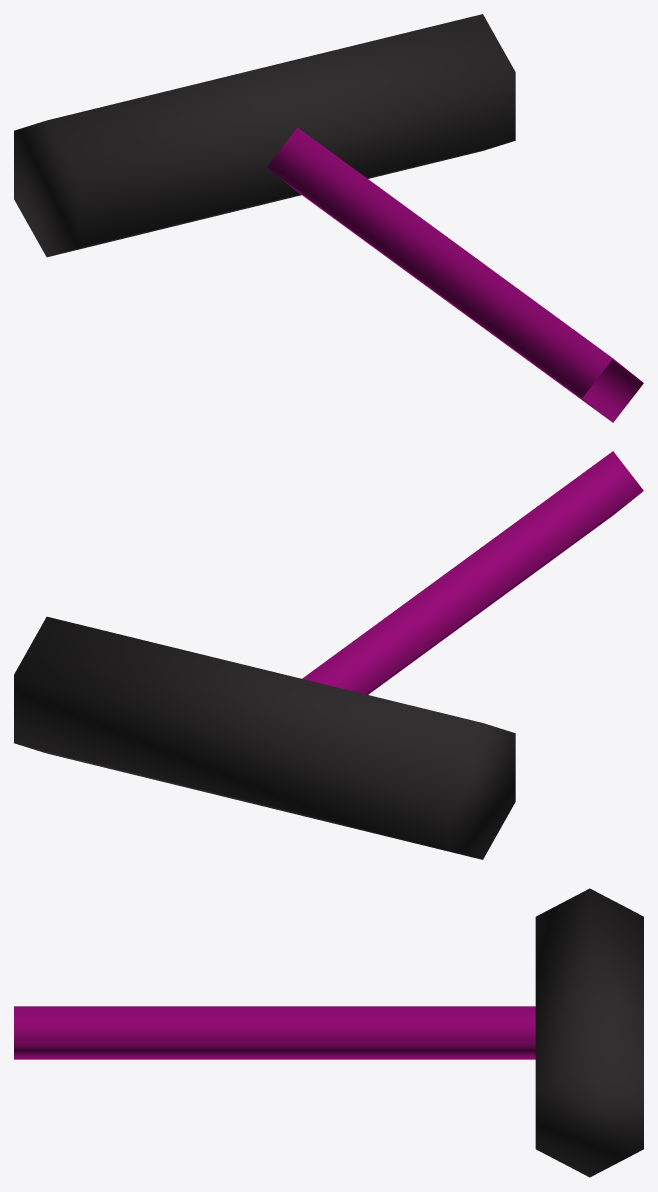
File: Controls_Lever_01.fbx
The picture shows the model from 3 angles, top to bottom: view 1: azimuth 30°, elevation 25°; view 2: azimuth 150°, elevation 25°; view 3: azimuth 270°, elevation 25°; orthographic projection. The views are drawn at different scales.
Parts seen in each view (by area): view 1: SubwayCart_01_Controls_Lever_01_low; view 2: SubwayCart_01_Controls_Lever_01_low; view 3: SubwayCart_01_Controls_Lever_01_low.
Boxes of the visible parts, <box> form: SubwayCart_01_Controls_Lever_01_low: <box>14,14,643,422</box>; SubwayCart_01_Controls_Lever_01_low: <box>14,451,643,859</box>; SubwayCart_01_Controls_Lever_01_low: <box>14,888,643,1177</box>.
Bounding box in the file's own units: 0.1 × 0.03 × 0.1513.
